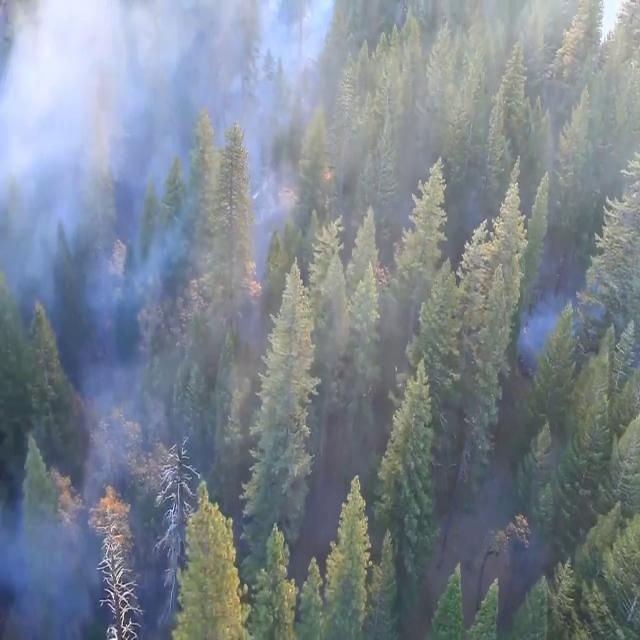Smoke: (12, 6, 307, 466)
